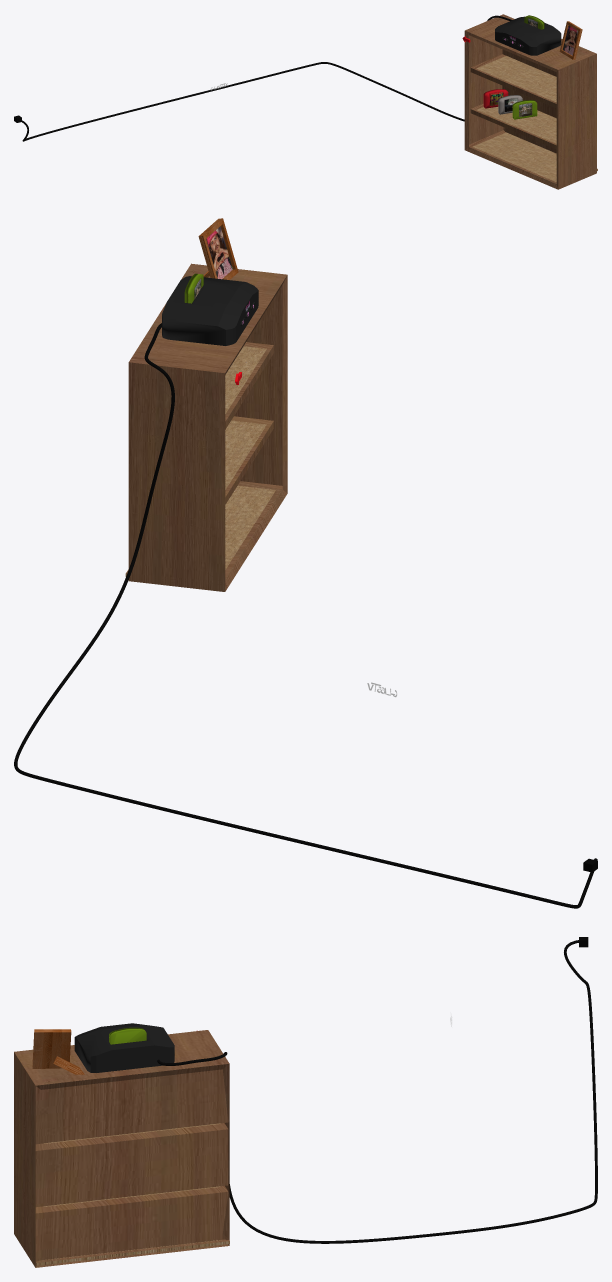
The model's file is MusicCabnet.gltf.
The picture shows the model from 3 angles, top to bottom: view 1: azimuth 30°, elevation 25°; view 2: azimuth 150°, elevation 25°; view 3: azimuth 270°, elevation 25°; orthographic projection. The views are drawn at different scales.
Visible parts, largest first — view 1: Cabnet, Player, gtagCart, helloCart, ntsCart; view 2: Cabnet, Player; view 3: Cabnet, Player, cartIN.
Part boxes in pixels (left/top/right/bottom): Cabnet: left=464, top=14, right=597, bottom=189; Player: left=14, top=15, right=561, bottom=141; gtagCart: left=512, top=100, right=537, bottom=119; helloCart: left=483, top=89, right=508, bottom=108; ntsCart: left=498, top=95, right=522, bottom=114; Cabnet: left=125, top=218, right=287, bottom=591; Player: left=14, top=276, right=597, bottom=908; Cabnet: left=14, top=1029, right=229, bottom=1267; Player: left=74, top=937, right=597, bottom=1243; cartIN: left=109, top=1027, right=146, bottom=1044.
Bounding box in the file's own units: 1.89 × 0.6951 × 1.56.
16 materials, 9 textured.
